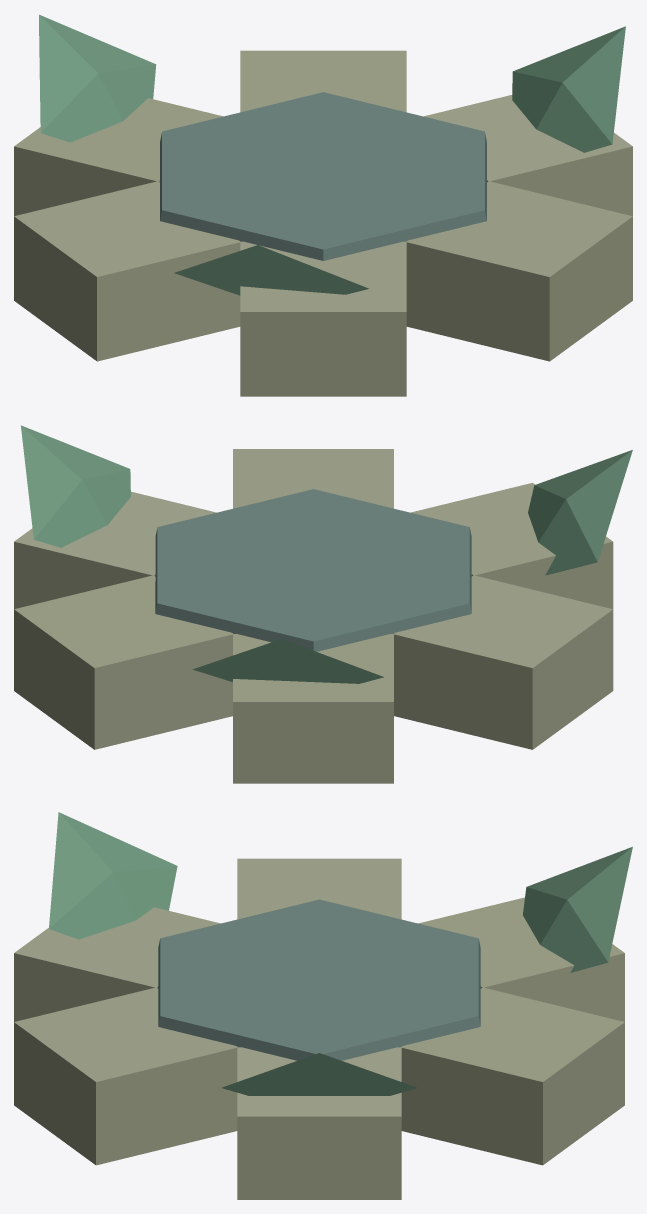
The model's file is map-exclusive-v3__ruins_06.glb.
3 views of the same model, one above another, from view 1: azimuth 30°, elevation 25°; view 2: azimuth 150°, elevation 25°; view 3: azimuth 270°, elevation 25° (orthographic). The views are drawn at different scales.
Visible parts, largest first — view 1: ruins_06; view 2: ruins_06; view 3: ruins_06.
Boxes of the visible parts, x1,y1,x2,y2 form: ruins_06: (14, 14, 632, 396); ruins_06: (14, 425, 632, 783); ruins_06: (14, 812, 632, 1199).
Bounding box in the file's own units: 1.98 × 0.55 × 1.89.
